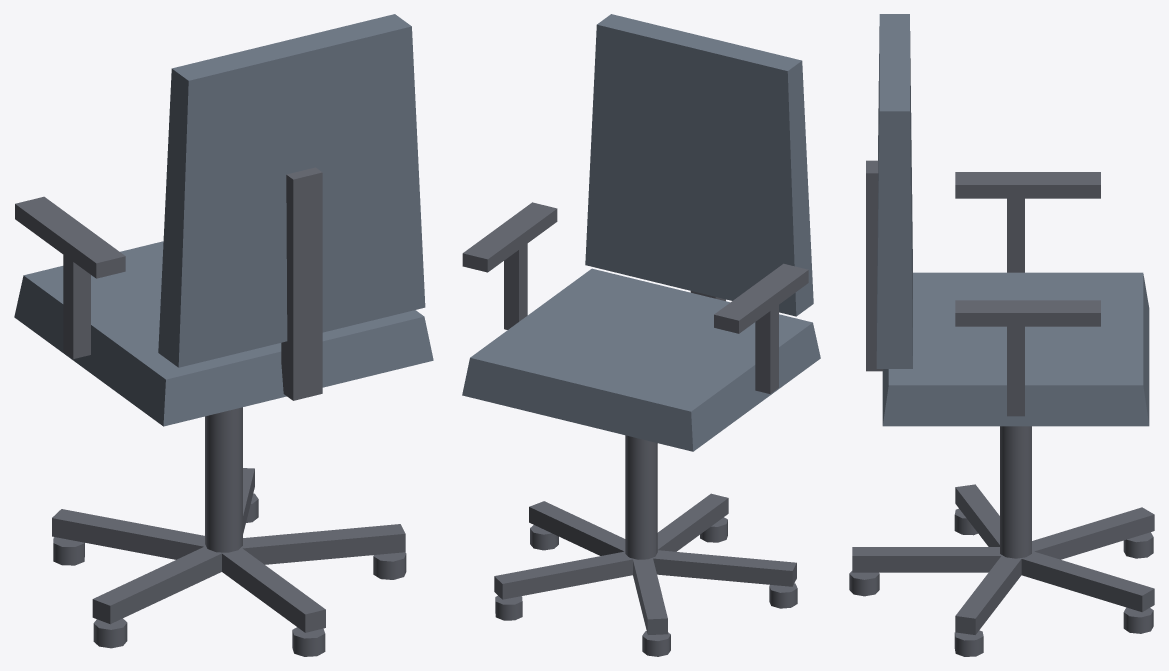
Rendered from furniture_chair_office.glb.
3 views of the same model, side by side, from view 1: azimuth 30°, elevation 25°; view 2: azimuth 150°, elevation 25°; view 3: azimuth 270°, elevation 25° (orthographic). The views are drawn at different scales.
Visible parts, largest first — view 1: ChairOffice; view 2: ChairOffice; view 3: ChairOffice.
Part boxes in pixels (box(x1,y1,x2,y2)): ChairOffice: box(14, 14, 433, 656); ChairOffice: box(462, 14, 820, 656); ChairOffice: box(849, 14, 1154, 656).
Bounding box in the file's own units: 0.55 × 0.96 × 0.5037.
